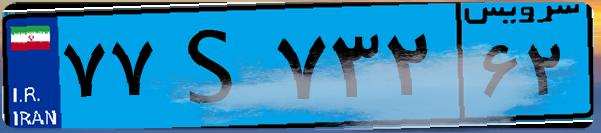2: (385, 28, 445, 110), (525, 38, 570, 115)
3: (330, 28, 385, 110)
6: (475, 38, 525, 113)
7: (270, 28, 330, 110), (57, 26, 110, 100), (110, 28, 158, 98)
S: (158, 12, 270, 120)
